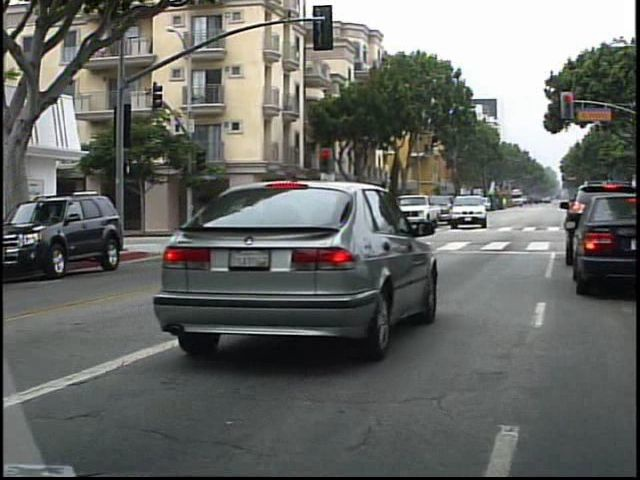person: (209, 191, 227, 238), (229, 193, 248, 235)
